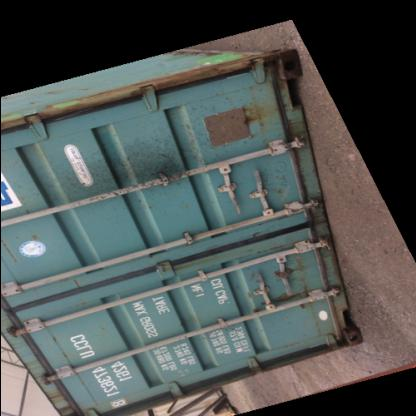Damage: (44, 140, 181, 210), (148, 56, 286, 90), (259, 252, 311, 310), (169, 117, 223, 171), (259, 164, 297, 210)
